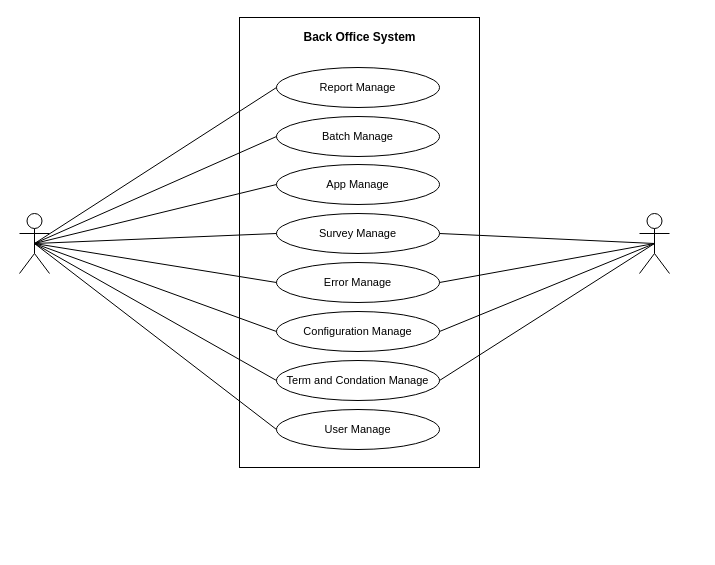
The diagram is 715 pixels wide and 565 high, and some of its shapes have lost their labels. Each missing label, with the box of its shape:
Admin: (18, 212, 50, 274)
Main Application: (638, 212, 670, 274)
